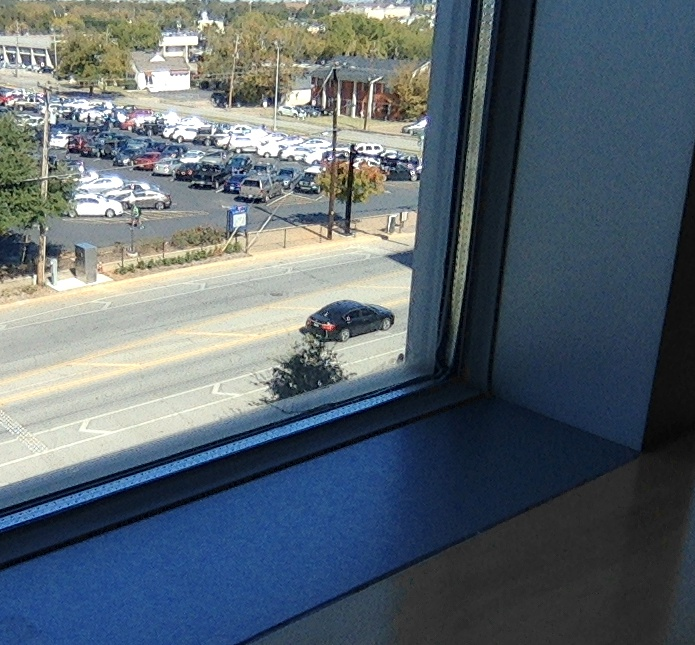car: (300, 300, 395, 345)
